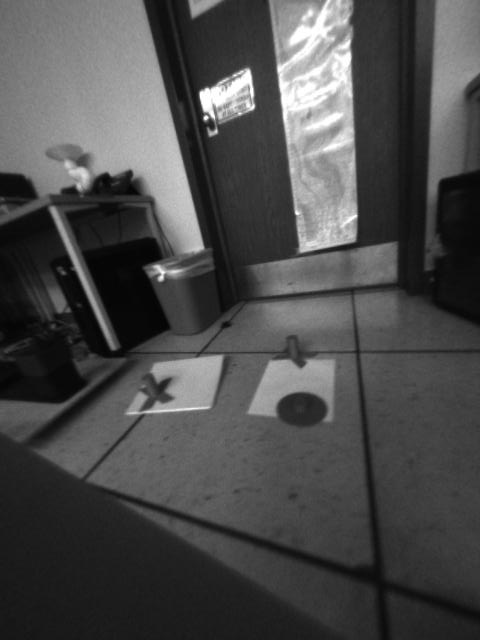X: (271, 333, 317, 367), (137, 371, 176, 409)
